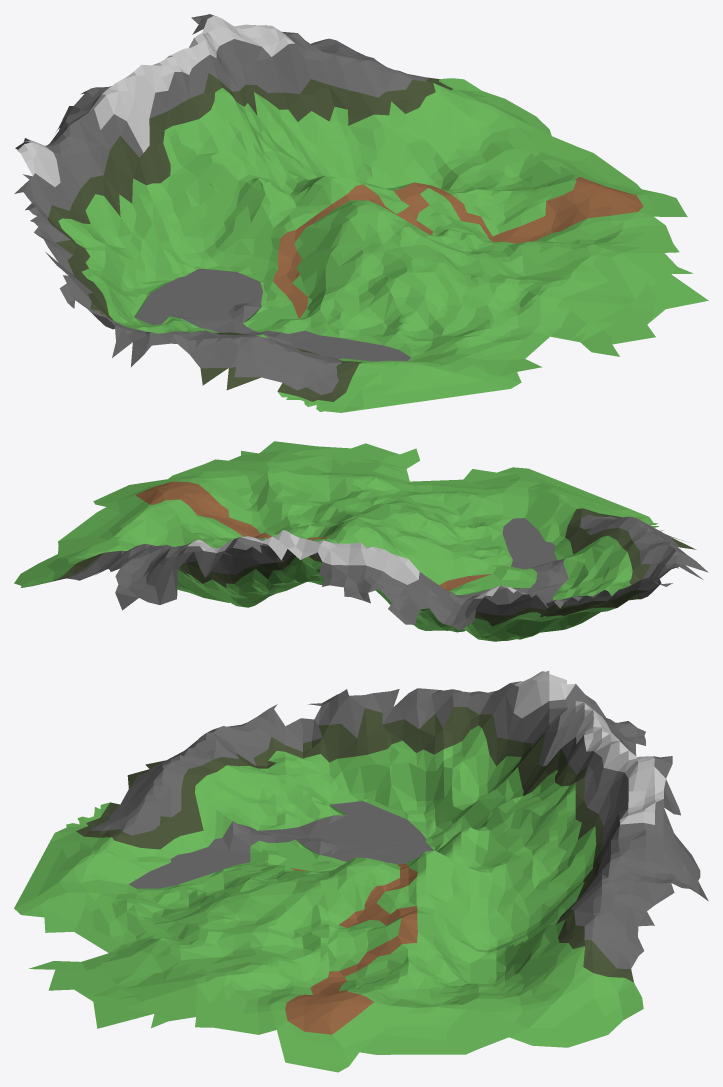
File: castle2.fbx
3 renders of one model, top to bottom at view 1: azimuth 30°, elevation 25°; view 2: azimuth 150°, elevation 25°; view 3: azimuth 270°, elevation 25°, orthographic. The views are drawn at different scales.
Visible parts, largest first — view 1: Landscape; view 2: Landscape; view 3: Landscape.
Part boxes in pixels (x1,y1,x2,y2): Landscape: (14, 14, 708, 412); Landscape: (14, 441, 708, 641); Landscape: (14, 670, 708, 1072).
Size of the model in its own units: 134 by 31.28 by 124.
